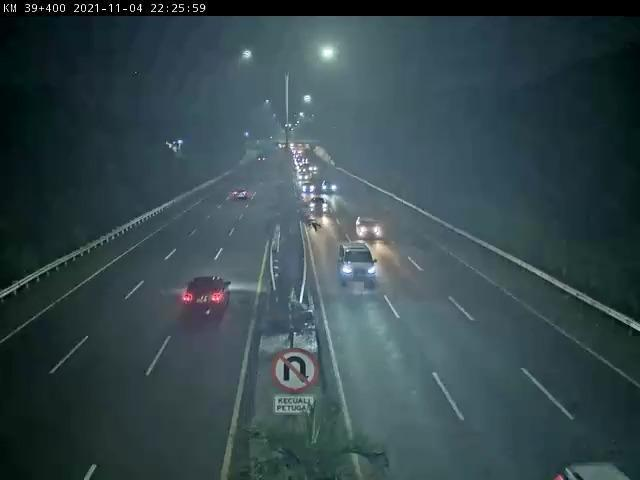car: (337, 243, 378, 288), (188, 279, 232, 316), (356, 219, 382, 244), (310, 198, 328, 214), (302, 182, 318, 196), (322, 182, 337, 194), (237, 189, 247, 199), (299, 174, 309, 181), (310, 165, 318, 173)
